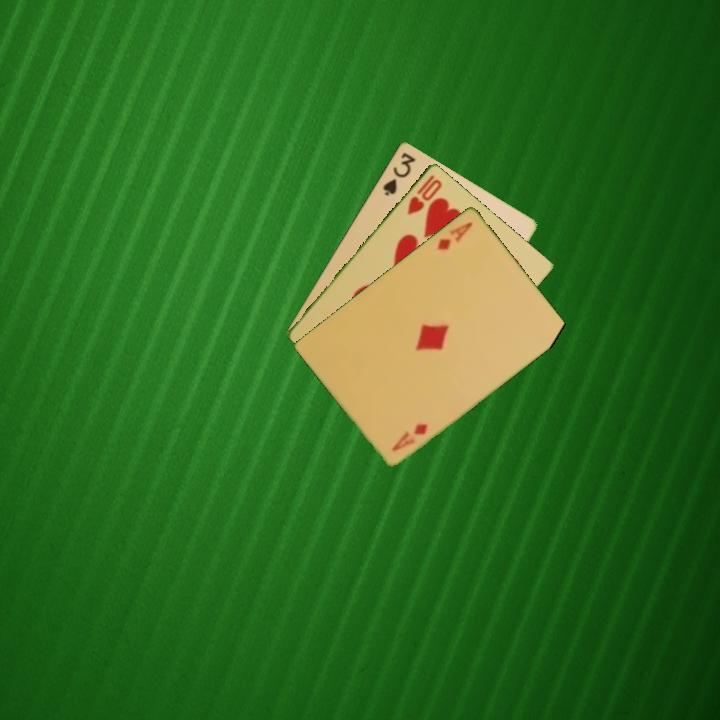10h: (403, 171, 445, 217)
3s: (379, 148, 419, 198)
Ad: (433, 217, 475, 253), (388, 420, 431, 454)
